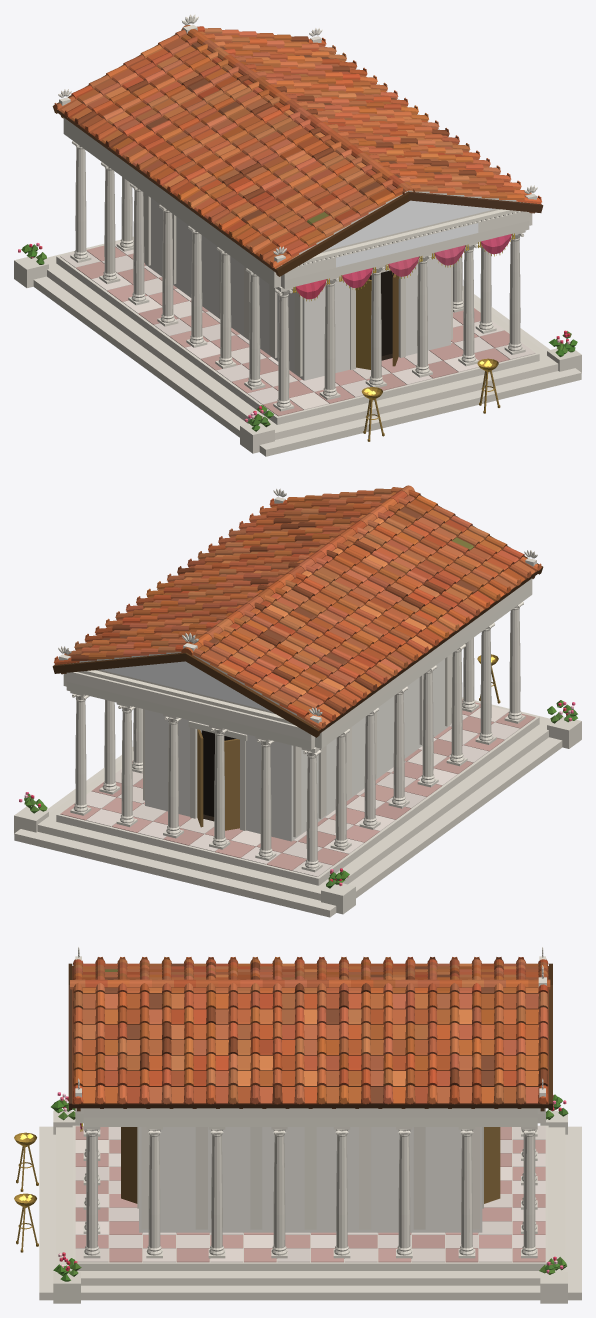
The model's file is mon_venus.glb.
The picture shows the model from 3 angles, top to bottom: view 1: azimuth 30°, elevation 25°; view 2: azimuth 150°, elevation 25°; view 3: azimuth 270°, elevation 25°; orthographic projection. The views are drawn at different scales.
Parts seen in each view (by area): view 1: House; view 2: House; view 3: House.
Part boxes in pixels (x1=…): House: x1=14, y1=14, x2=581, y2=456; House: x1=14, y1=485, x2=581, y2=917; House: x1=14, y1=946, x2=581, y2=1303.
Size of the model in its own units: 7.4 by 5.01 by 10.26.
7 materials, 7 textured.
